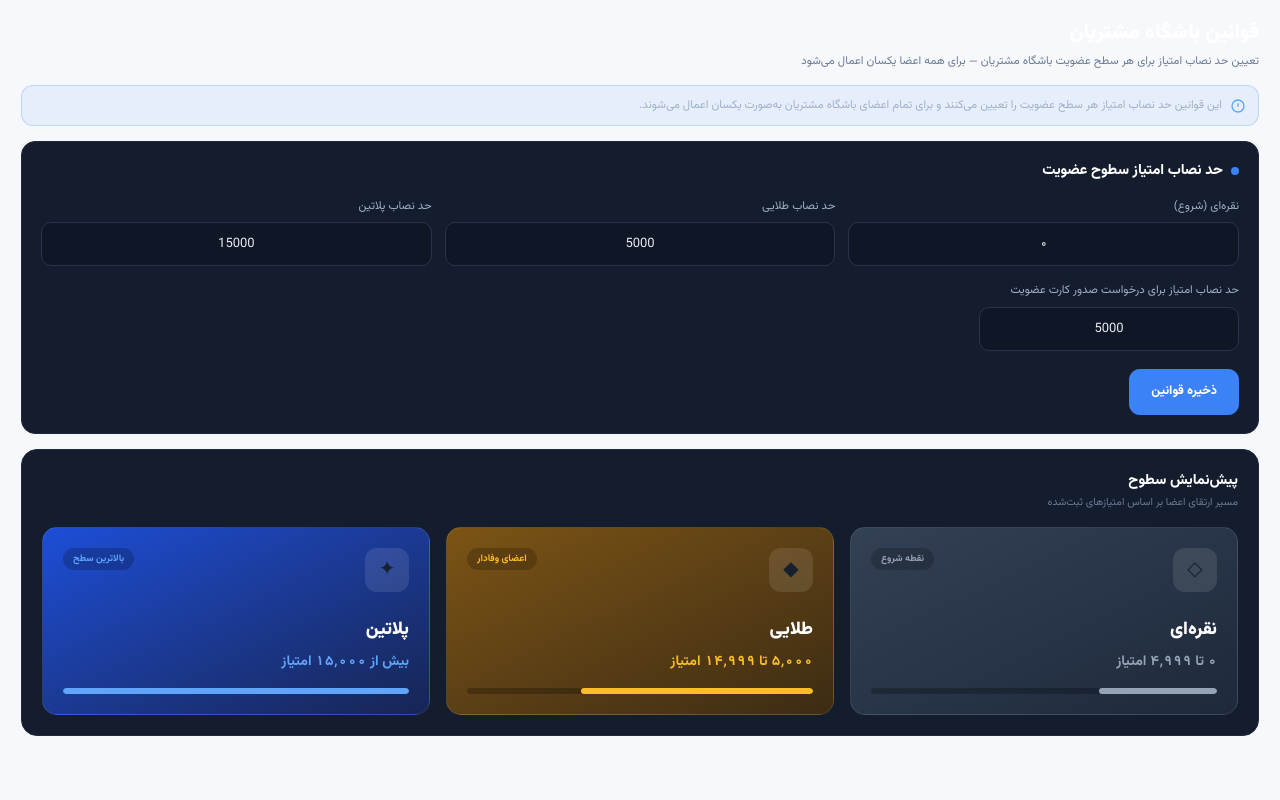
ClubTierRulesPage › saves real changes and shows the success notice
The width and height of the screenshot is (1280, 800).
Replace the text in the field with test id "ctr-gold" with "4000": (640, 244) [445,222,835,266]
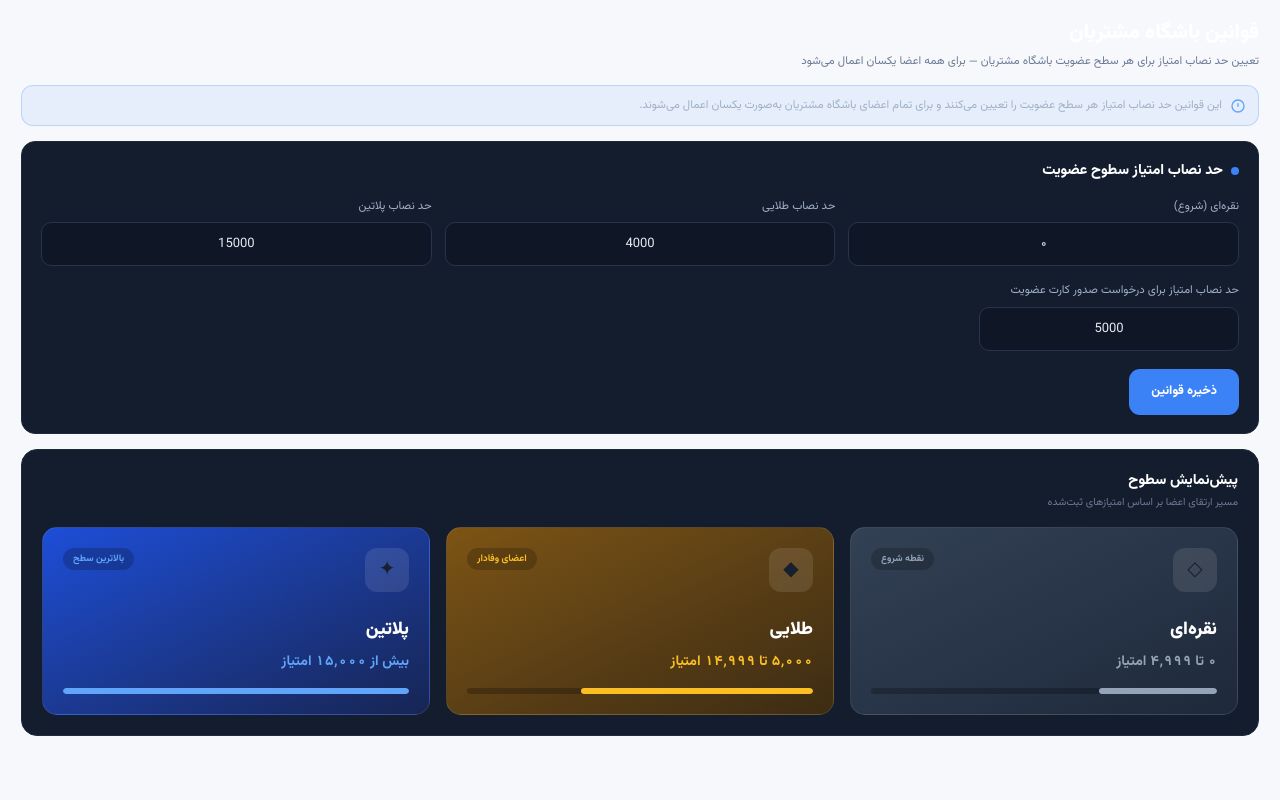
Click the button with test id "ctr-save": (1184, 392) [1129,368,1239,414]
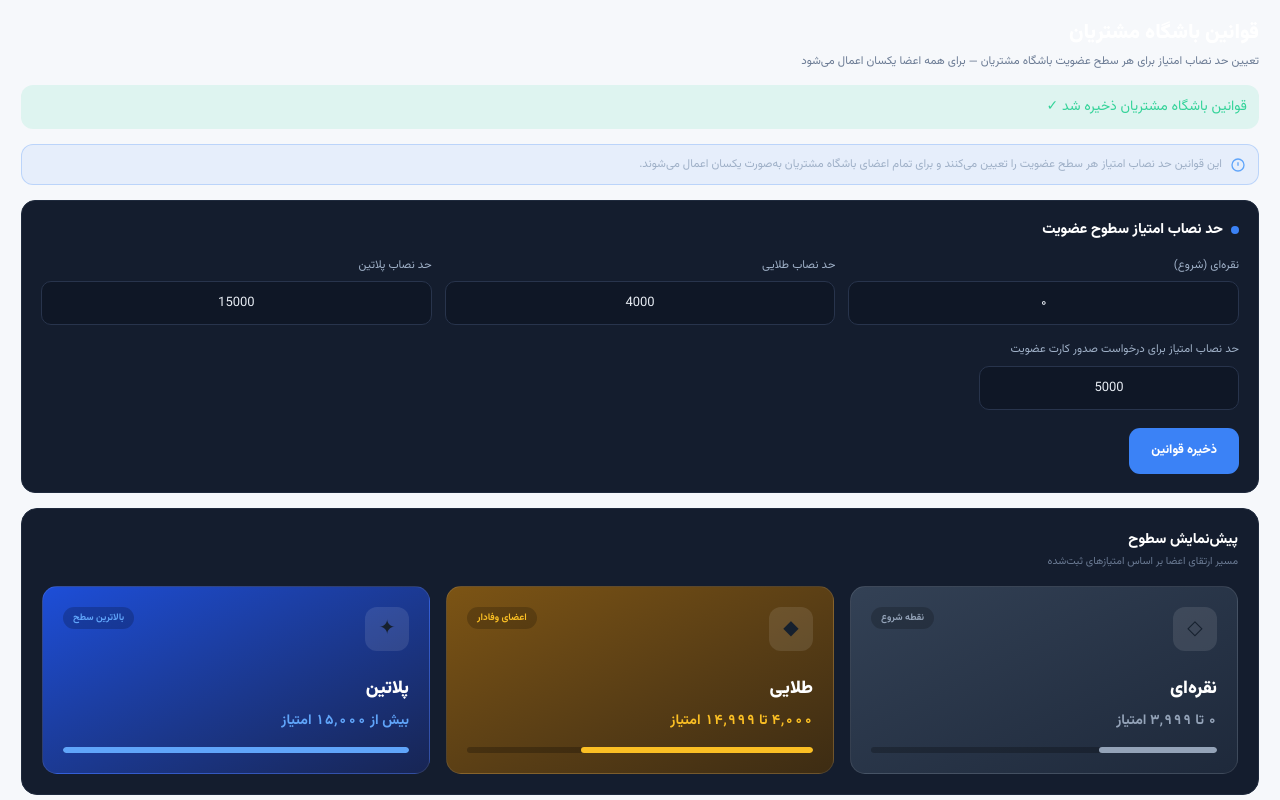
Expected: the text "قوانین باشگاه مشتریان ذخیره شد ✓" is shown, [21,85,1259,129]
